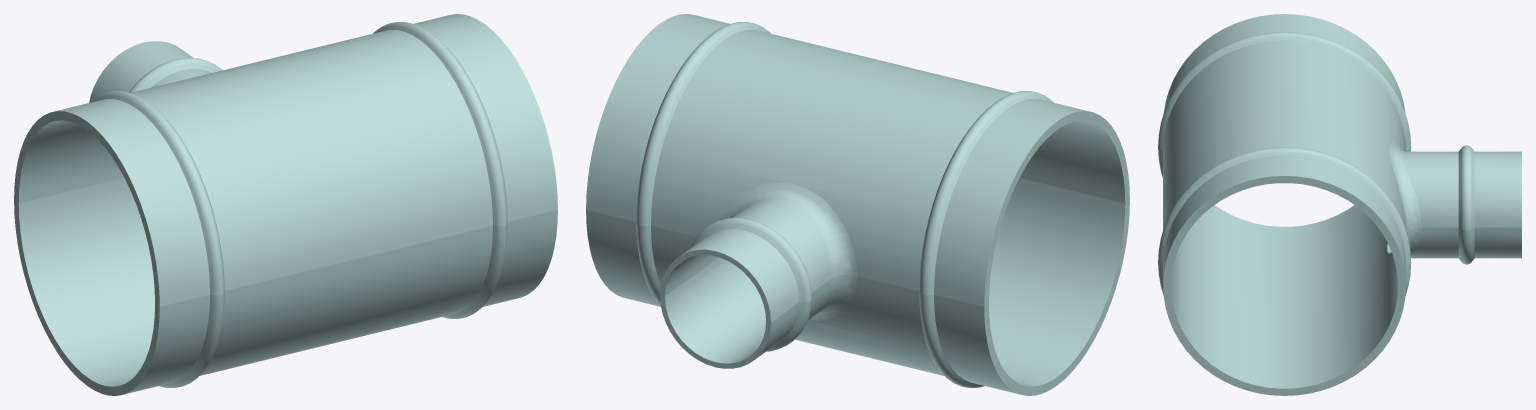
3 renders of one model, left to right at view 1: azimuth 30°, elevation 25°; view 2: azimuth 150°, elevation 25°; view 3: azimuth 270°, elevation 25°, orthographic. The views are drawn at different scales.
Size of the model in its own units: 242 by 160 by 230.
